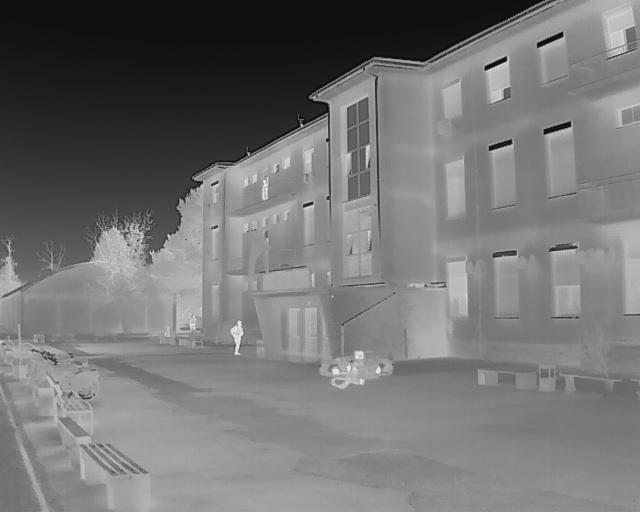drone: (319, 348, 396, 390)
